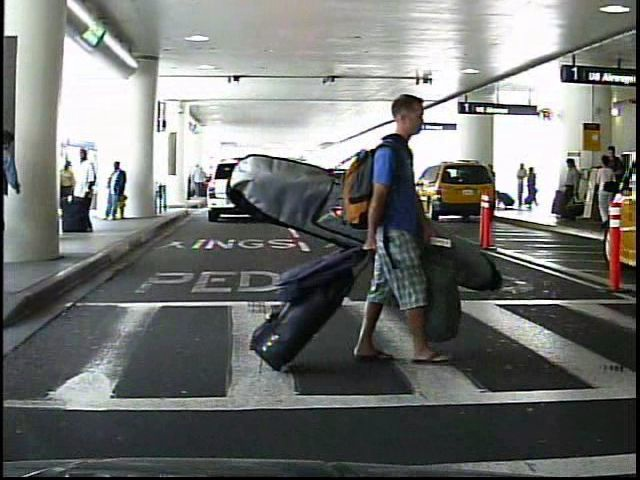person: (343, 84, 448, 376), (72, 146, 99, 236), (587, 155, 614, 230), (103, 161, 130, 227), (558, 157, 582, 225), (56, 158, 76, 231), (602, 142, 619, 224), (513, 162, 528, 209), (524, 165, 535, 209)
